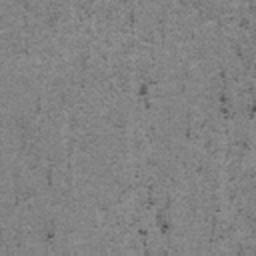Oxide scale of temperature system: (139, 81, 157, 96), (156, 215, 169, 234), (248, 105, 256, 119), (221, 108, 228, 119), (220, 94, 227, 104), (138, 229, 147, 236)
